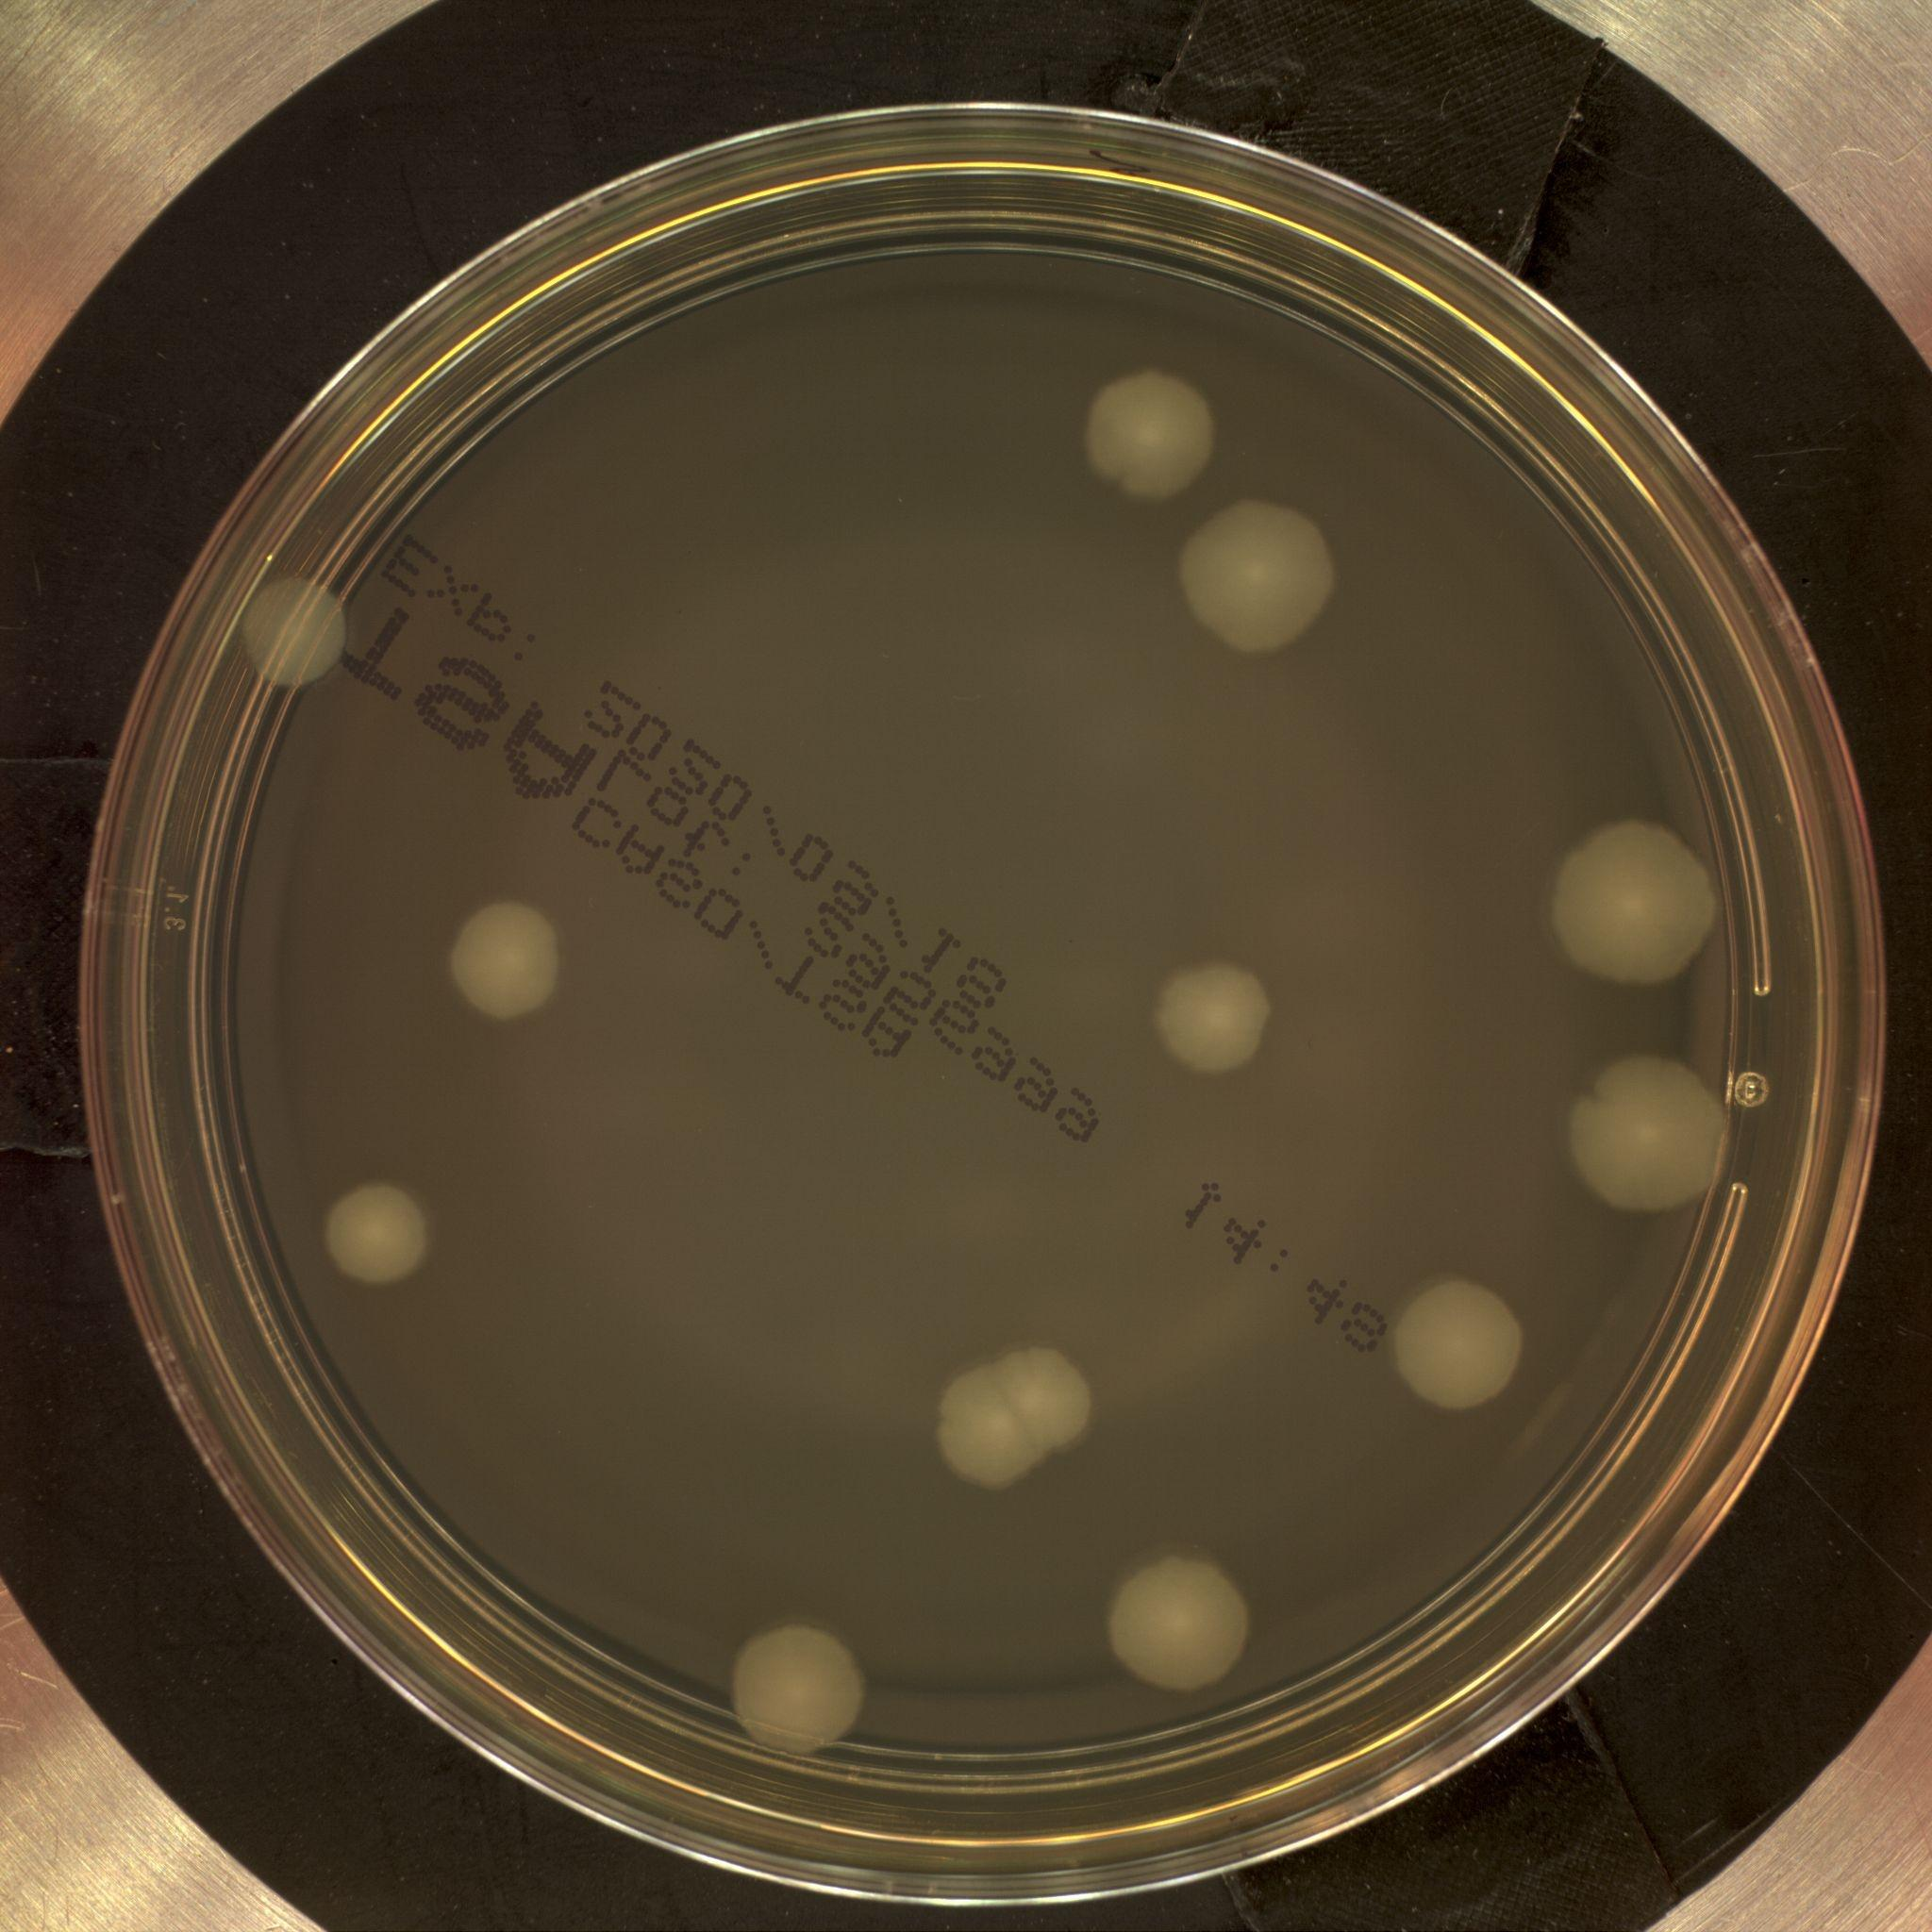e. coli: (1548, 826, 1721, 985), (1095, 1546, 1265, 1698), (934, 1345, 1106, 1490), (1571, 1062, 1732, 1207), (722, 1617, 879, 1759), (1189, 501, 1332, 651), (1081, 363, 1214, 510), (1392, 1269, 1523, 1415), (232, 561, 364, 688), (449, 901, 577, 1019), (1157, 957, 1276, 1081), (322, 1166, 435, 1283)
